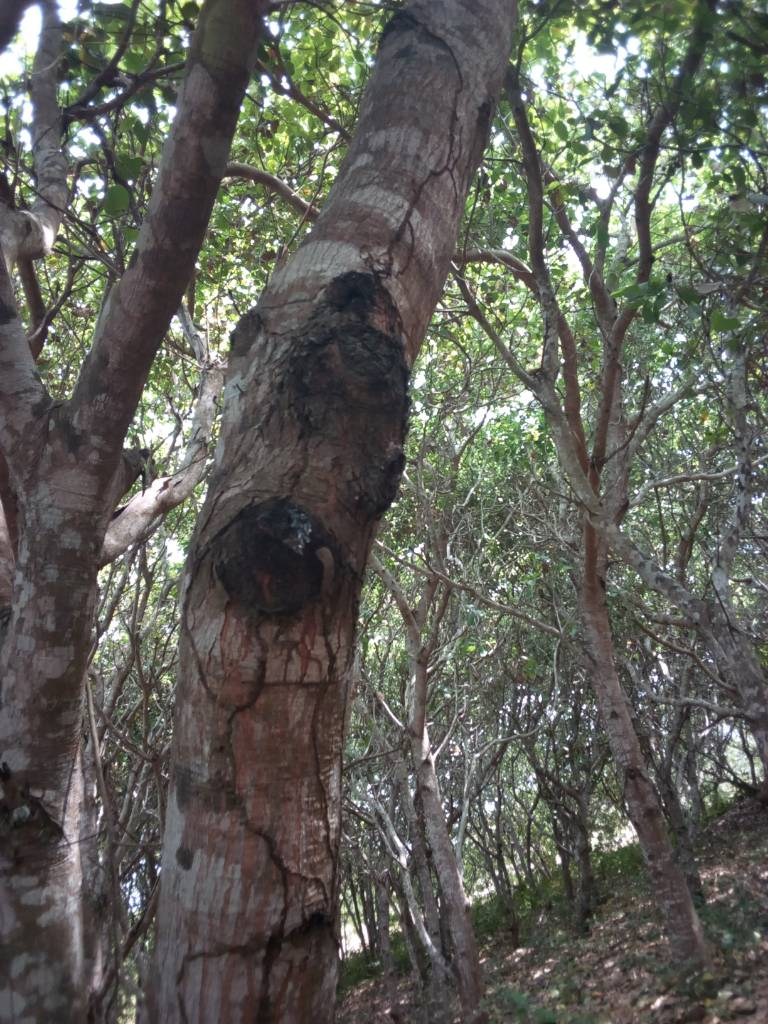Termites: (224, 569, 346, 1005), (369, 102, 466, 274)
